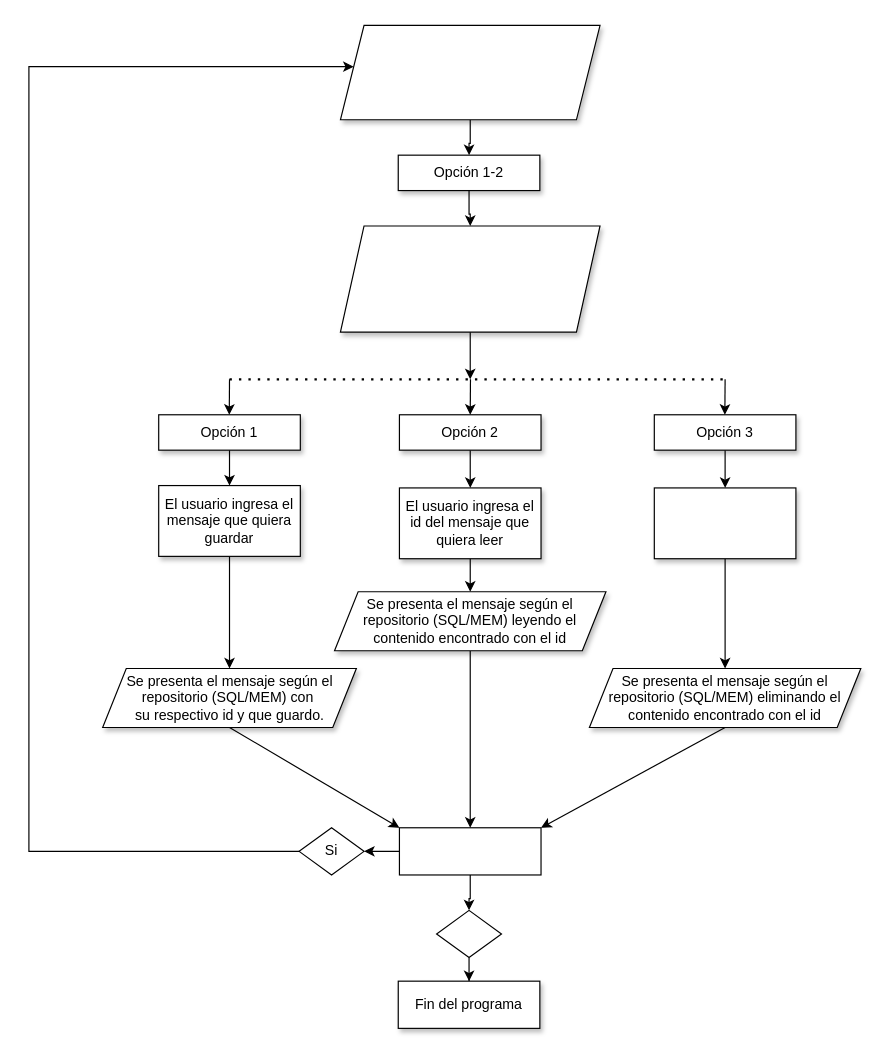
Some shapes in this 889 by 1057 pixel diagram are drawn without their labels. The shapes that lost their labels are listed below. From the top down, each one's centre as x and y in pixels, then its label:
point 471,73: Que desea hacer? 1. Repositorio de datos 2. Repositorio de memoria
point 471,280: Que quieres hacer? 1. Guardar 2. Leer 3. Eliminar
point 725,524: El usuario ingresa el id del mensaje que quiera eliminar
point 469,851: ¿El usuario quiere hacer otra cosa?
point 468,933: No
